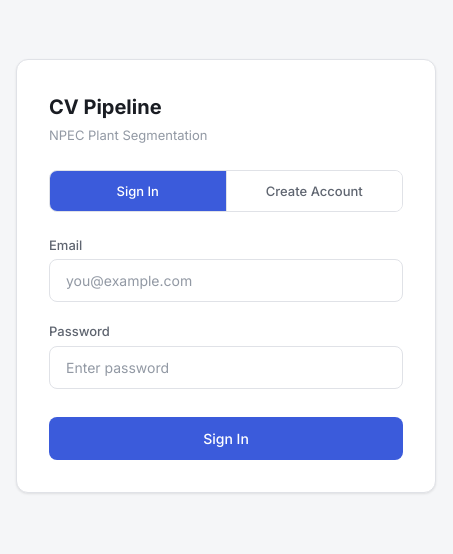
Test: LoginPage › shows name field when switching to Create Account
Click the button "Create Account". click: point(314, 190)
box: [226, 170, 402, 210]
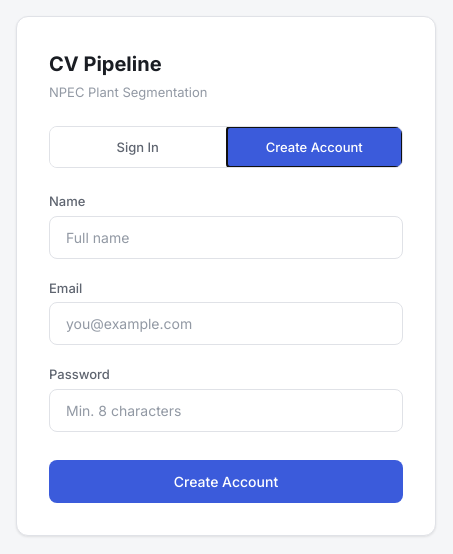
Expected: the field labelled "Name" is shown, [49, 216, 403, 259]
